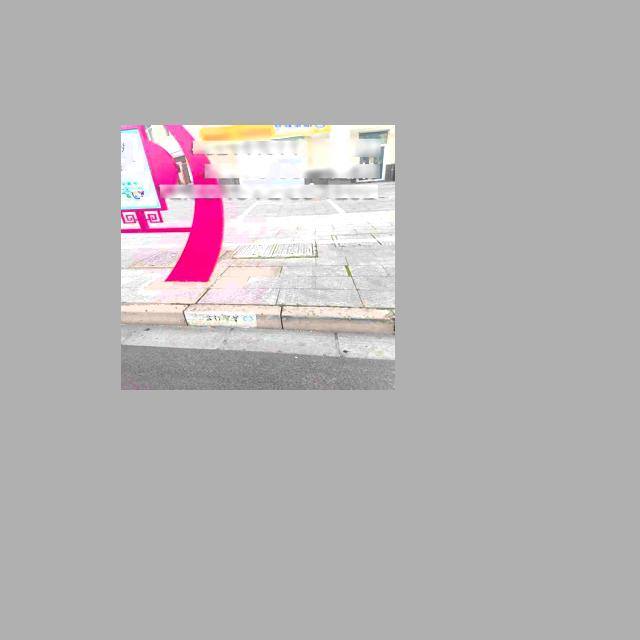good: (229, 241, 320, 258), (332, 232, 395, 247)
